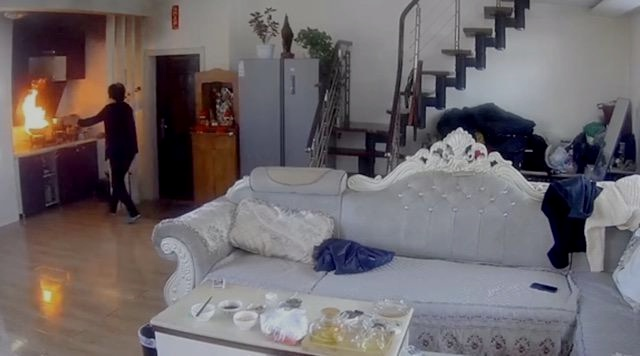fire: (14, 74, 58, 142)
